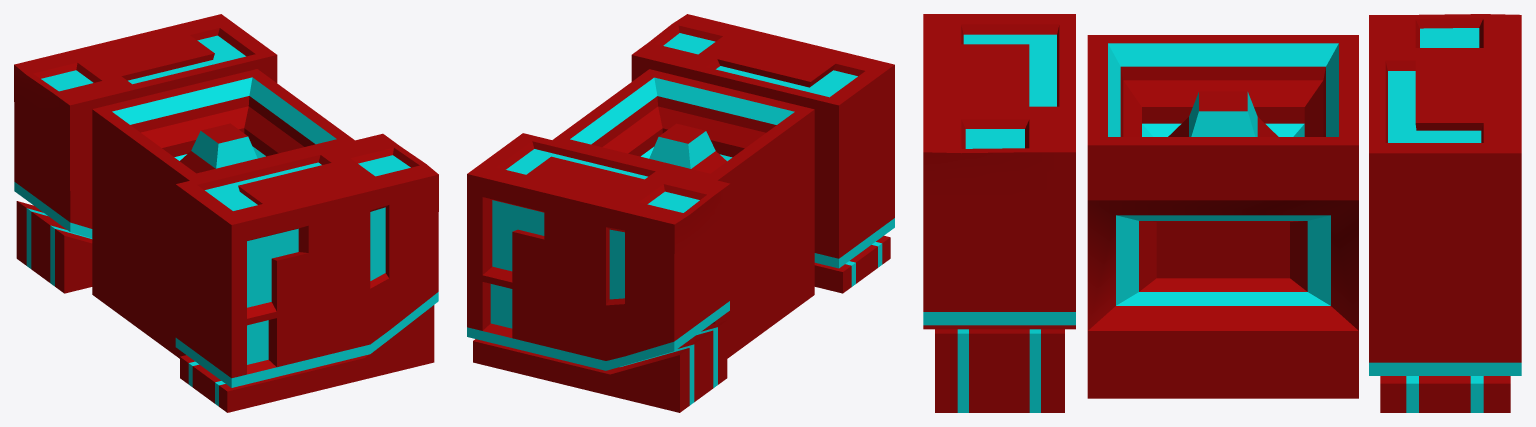
Rendered from GJ_Envrio_Kit_Buildings_HL_23-07-2019_v10.fbx.
The picture shows the model from 3 angles, left to right: view 1: azimuth 30°, elevation 25°; view 2: azimuth 150°, elevation 25°; view 3: azimuth 270°, elevation 25°; orthographic projection. The views are drawn at different scales.
Visible parts, largest first — view 1: Building_7_DJ_Box_Building; view 2: Building_7_DJ_Box_Building; view 3: Building_7_DJ_Box_Building.
Part boxes in pixels (x1,y1,x2,y2): Building_7_DJ_Box_Building: [14, 14, 438, 412]; Building_7_DJ_Box_Building: [467, 14, 894, 412]; Building_7_DJ_Box_Building: [923, 14, 1521, 412].
Bounding box in the file's own units: 755 × 661 × 1371.
